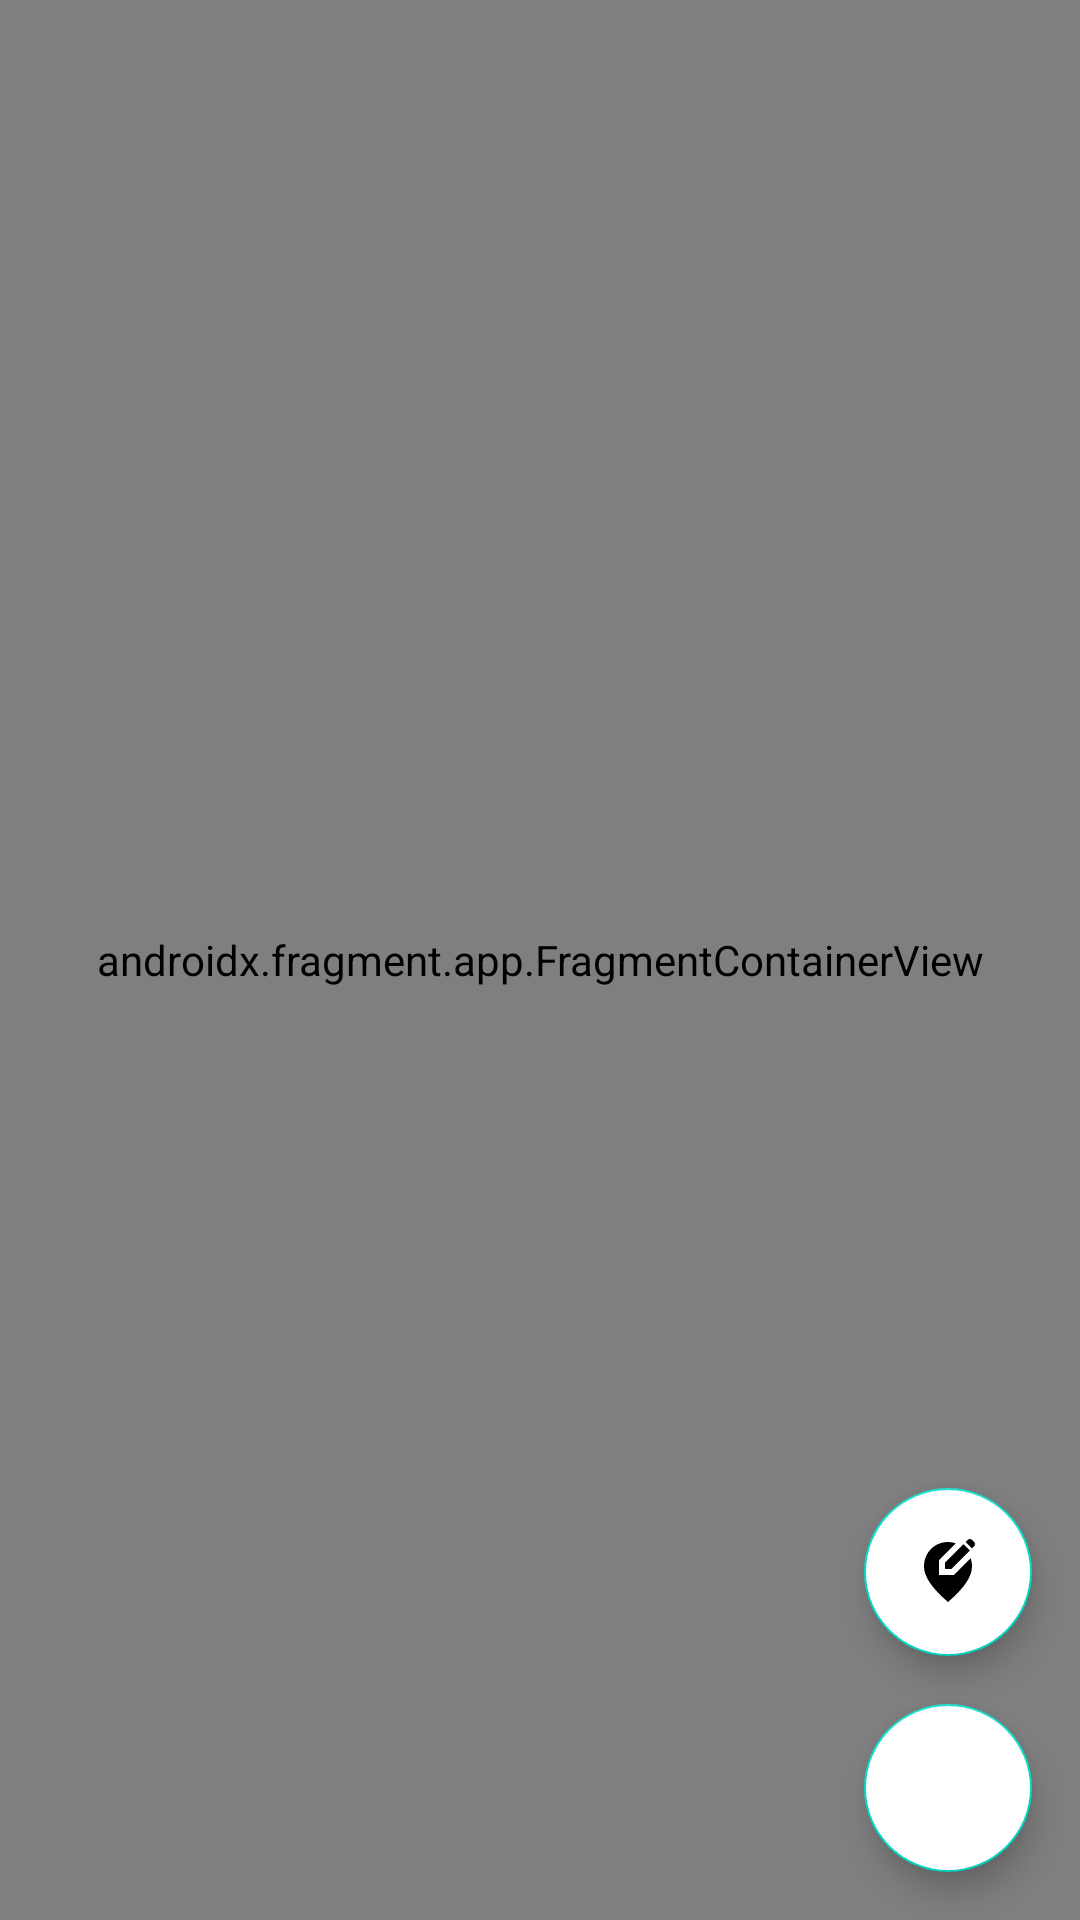

Where icons sit on this 1080 × 1920 app screen, as (x1, y1, x2, y2):
edit location: (864, 1488, 1032, 1656)
